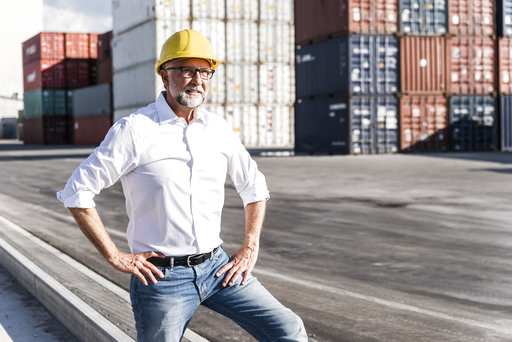Person_wearing_helmet: (149, 18, 219, 77)
